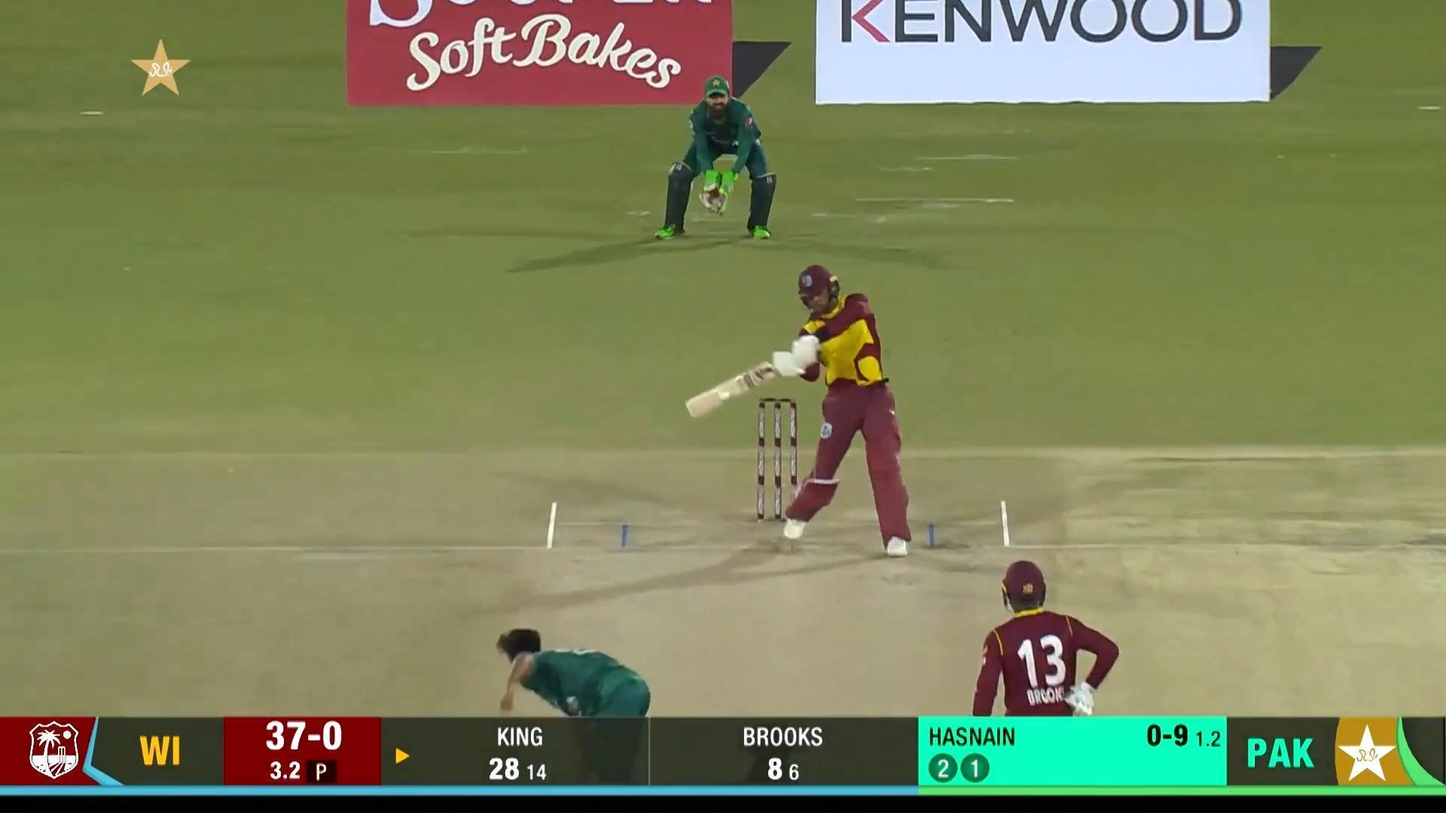BM 1: (683, 262, 912, 557)
BO: (494, 625, 653, 718)
